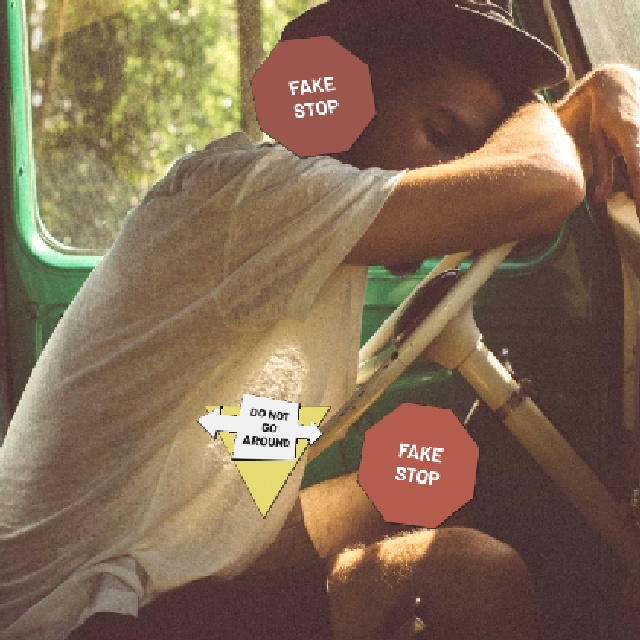DO_NOT_GO_AROUND: (194, 391, 322, 460)
FAKE_STOP: (248, 33, 376, 157), (355, 400, 479, 528)
YIELD: (202, 404, 330, 518)
